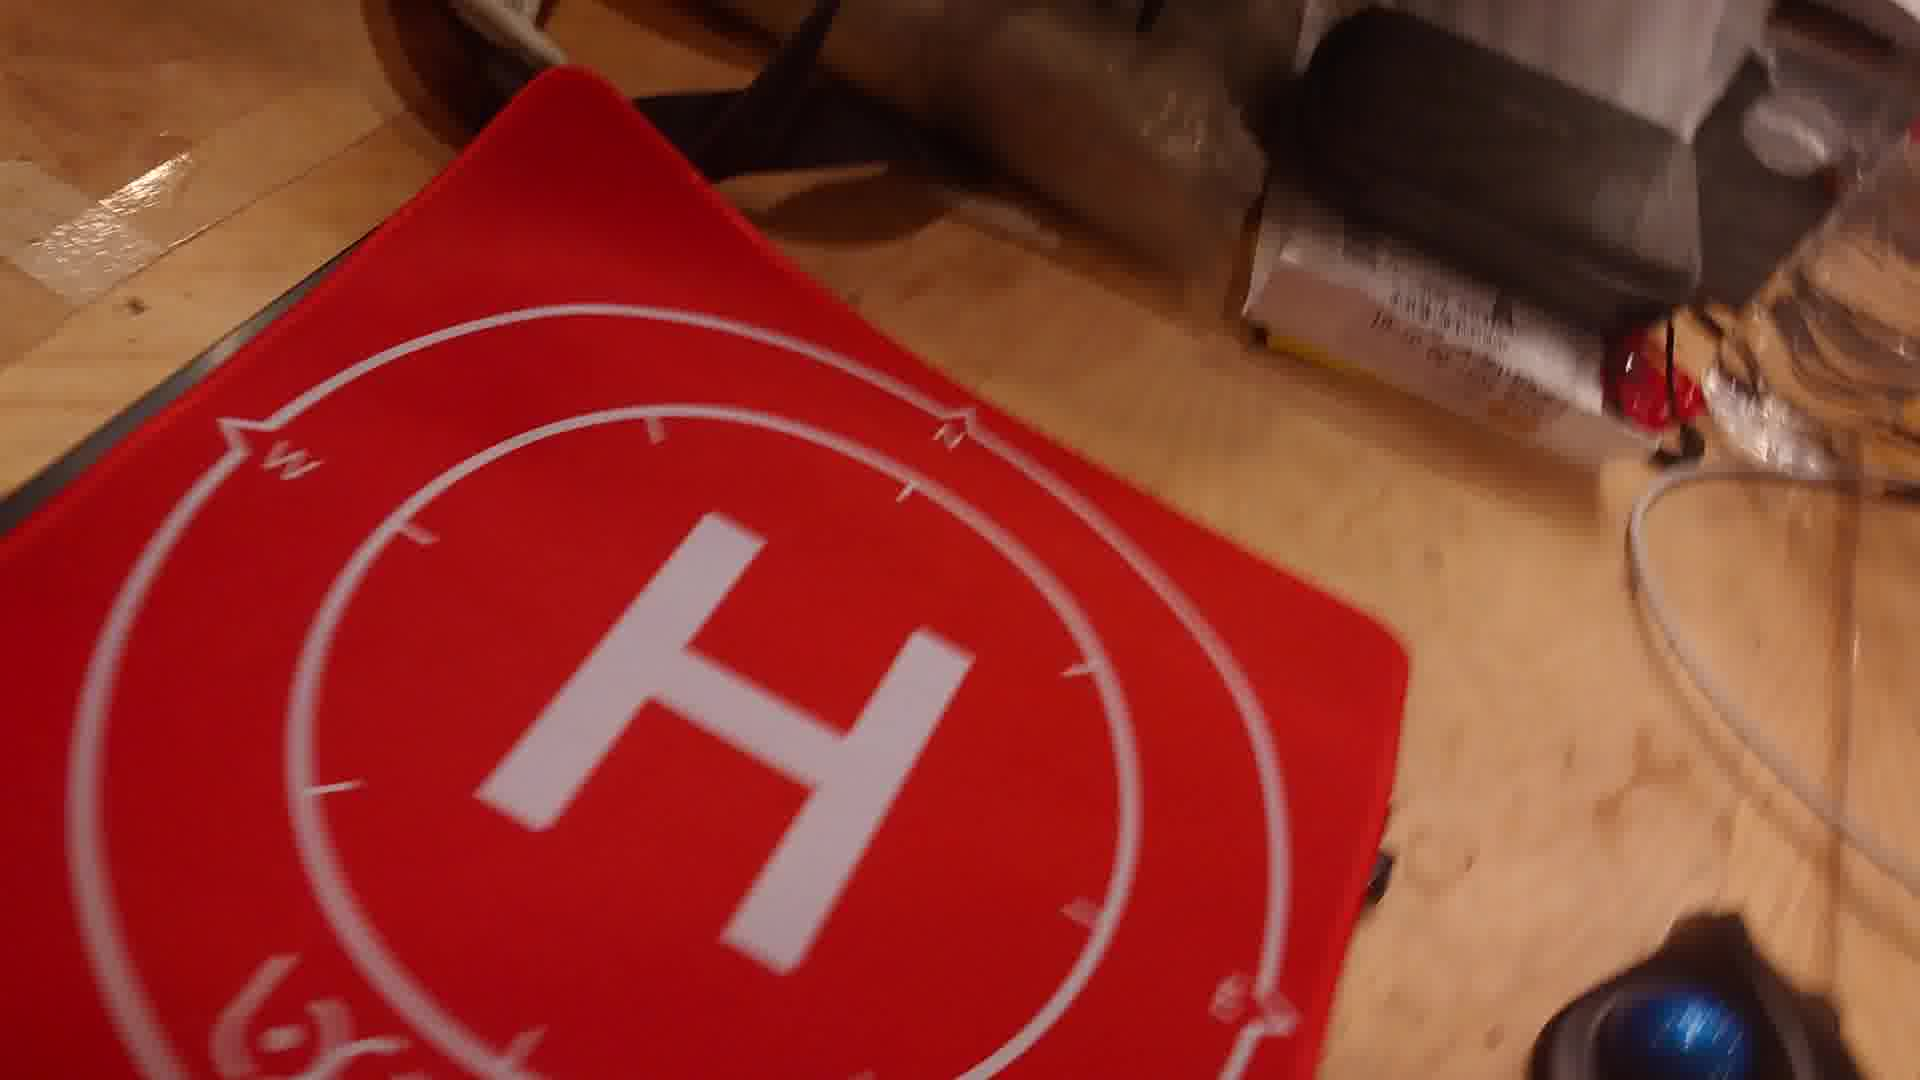H: (473, 513, 986, 978)
